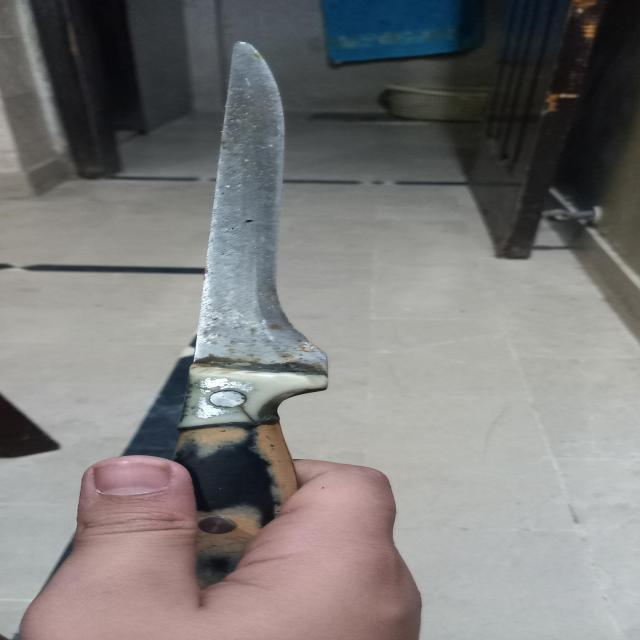Knife: (147, 35, 337, 591)
